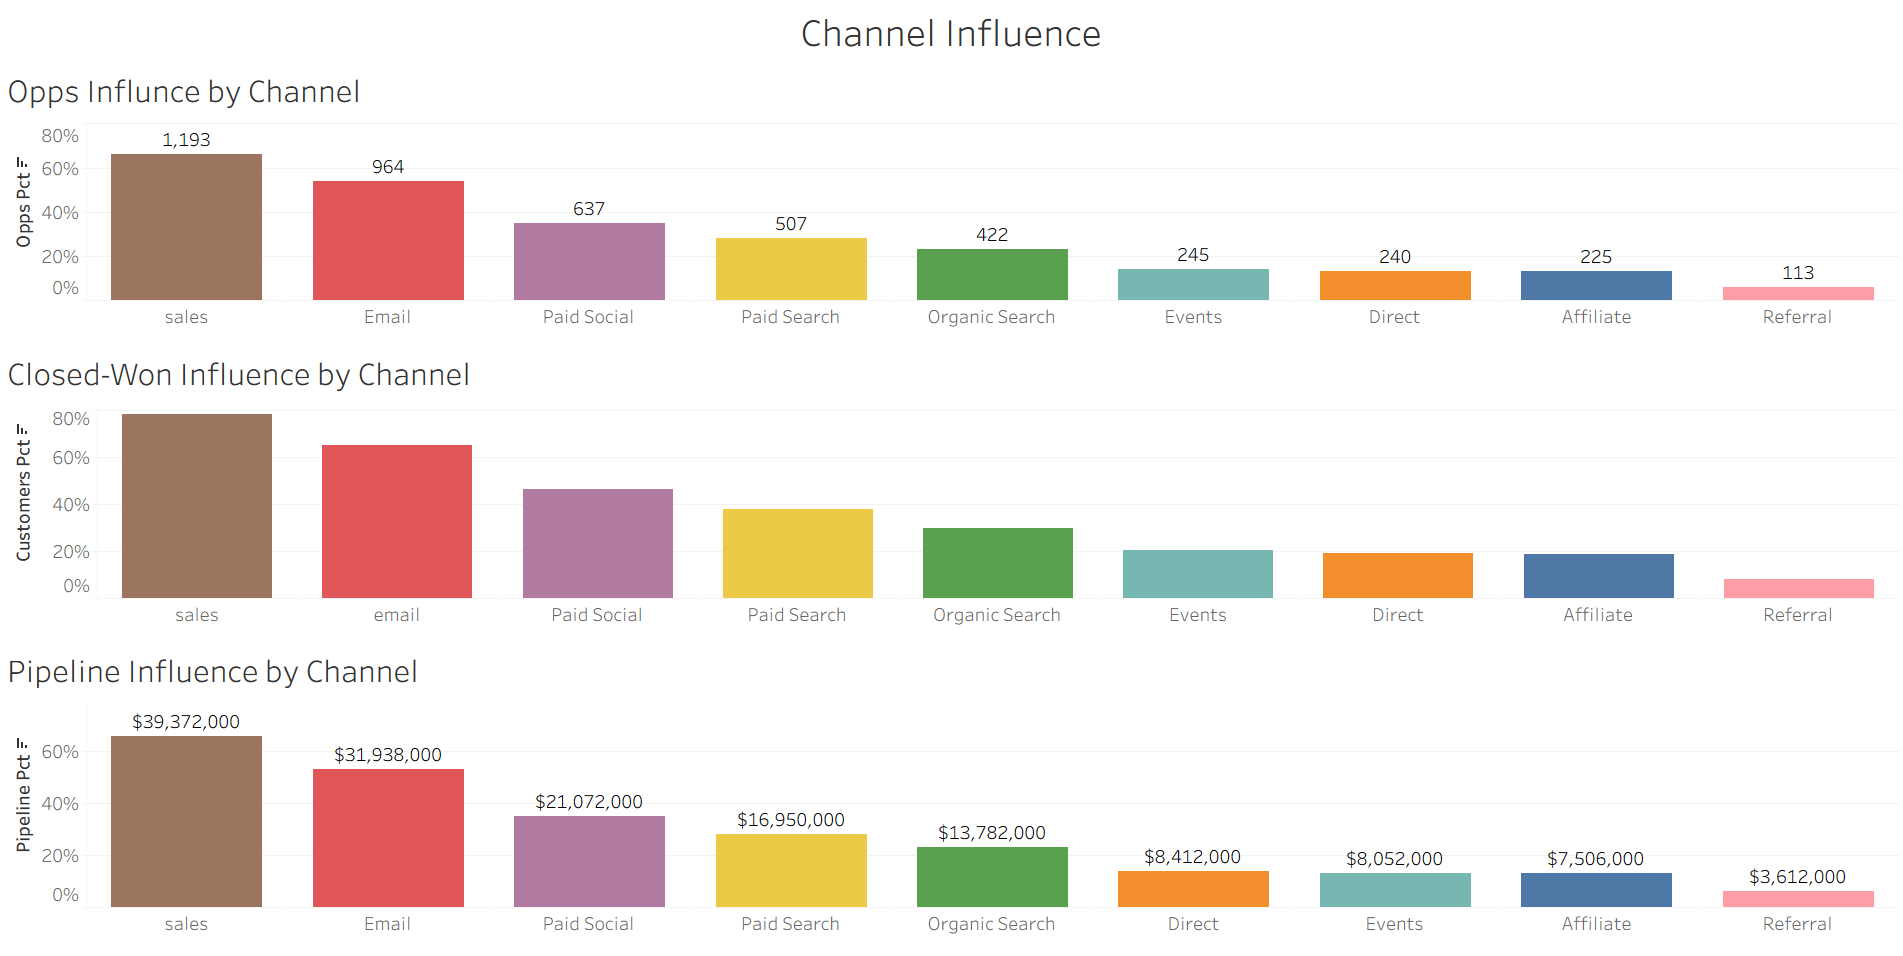

Layout of this report page (visuals, bound fields, positions):
{"tool":"tableau","page":{"name":"Channel Influence","canvas":[1000,1000],"units":"permille","ordinal":2},"visuals":[{"type":"worksheet","title":"ops_infl","mark":"Automatic","rows":["influence_opps_pct"],"cols":["channel"],"box":[5.1,10.6,989.7,307.4]},{"type":"worksheet","title":"cw_infl","mark":"Automatic","rows":["influence_customers_pct"],"cols":["channel"],"box":[5.1,317.9,989.7,323.2]},{"type":"worksheet","title":"pl_infl","mark":"Automatic","rows":["influence_pipeline_pct"],"cols":["channel"],"box":[5.1,641.2,989.7,348.3]}]}

Visuals, with their boxes on the dashboard's canvas, which has no fixed pixel size, in thousandths of its width and height (x1, y1, x2, y2). These are canvas units, not pixel positions in the 1903x956 screenshot, which may show the page scaled, cropped or inside an application window:
"ops_infl" worksheet: locate(5, 11, 995, 318)
"cw_infl" worksheet: locate(5, 318, 995, 641)
"pl_infl" worksheet: locate(5, 641, 995, 990)
